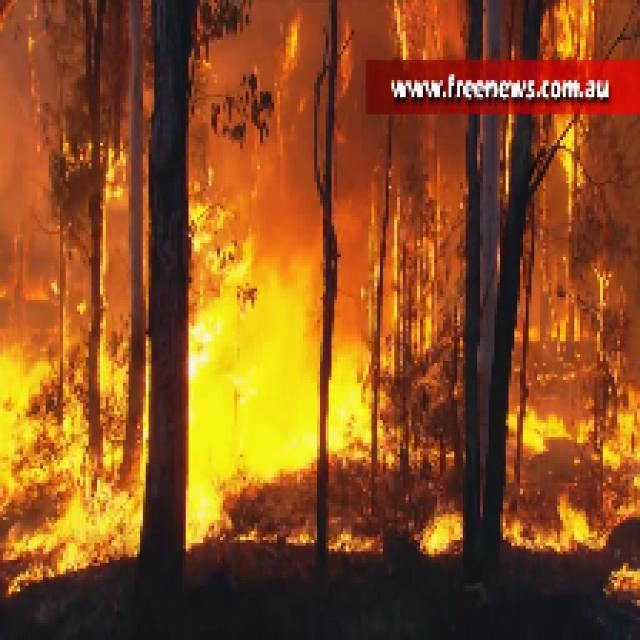Fire: (182, 194, 338, 549), (2, 346, 138, 563), (506, 497, 600, 546), (542, 2, 594, 54)
Smoke: (3, 6, 66, 286)
